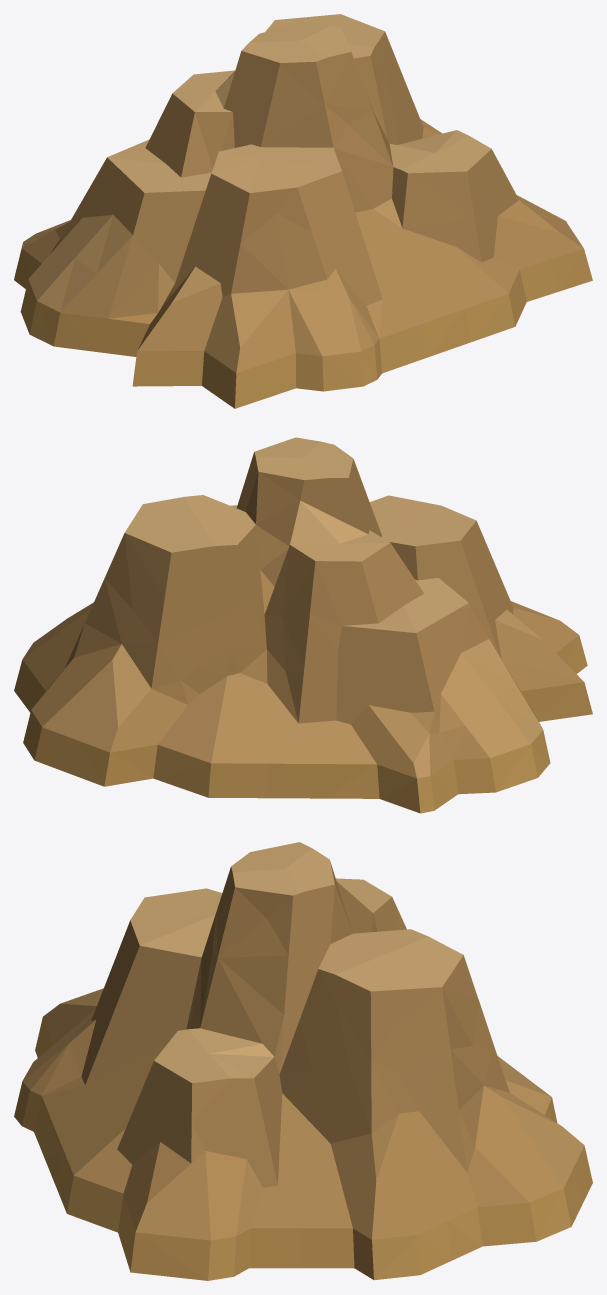
File: rock_low.glb
3 views of the same model, one above another, from view 1: azimuth 30°, elevation 25°; view 2: azimuth 150°, elevation 25°; view 3: azimuth 270°, elevation 25° (orthographic). The views are drawn at different scales.
Visible parts, largest first — view 1: rock_low; view 2: rock_low; view 3: rock_low.
Boxes of the visible parts, bbox=[...] form: rock_low: bbox=[14, 14, 592, 408]; rock_low: bbox=[14, 437, 592, 813]; rock_low: bbox=[14, 842, 592, 1280].
Bounding box in the file's own units: 2.42 × 1.15 × 2.16.
